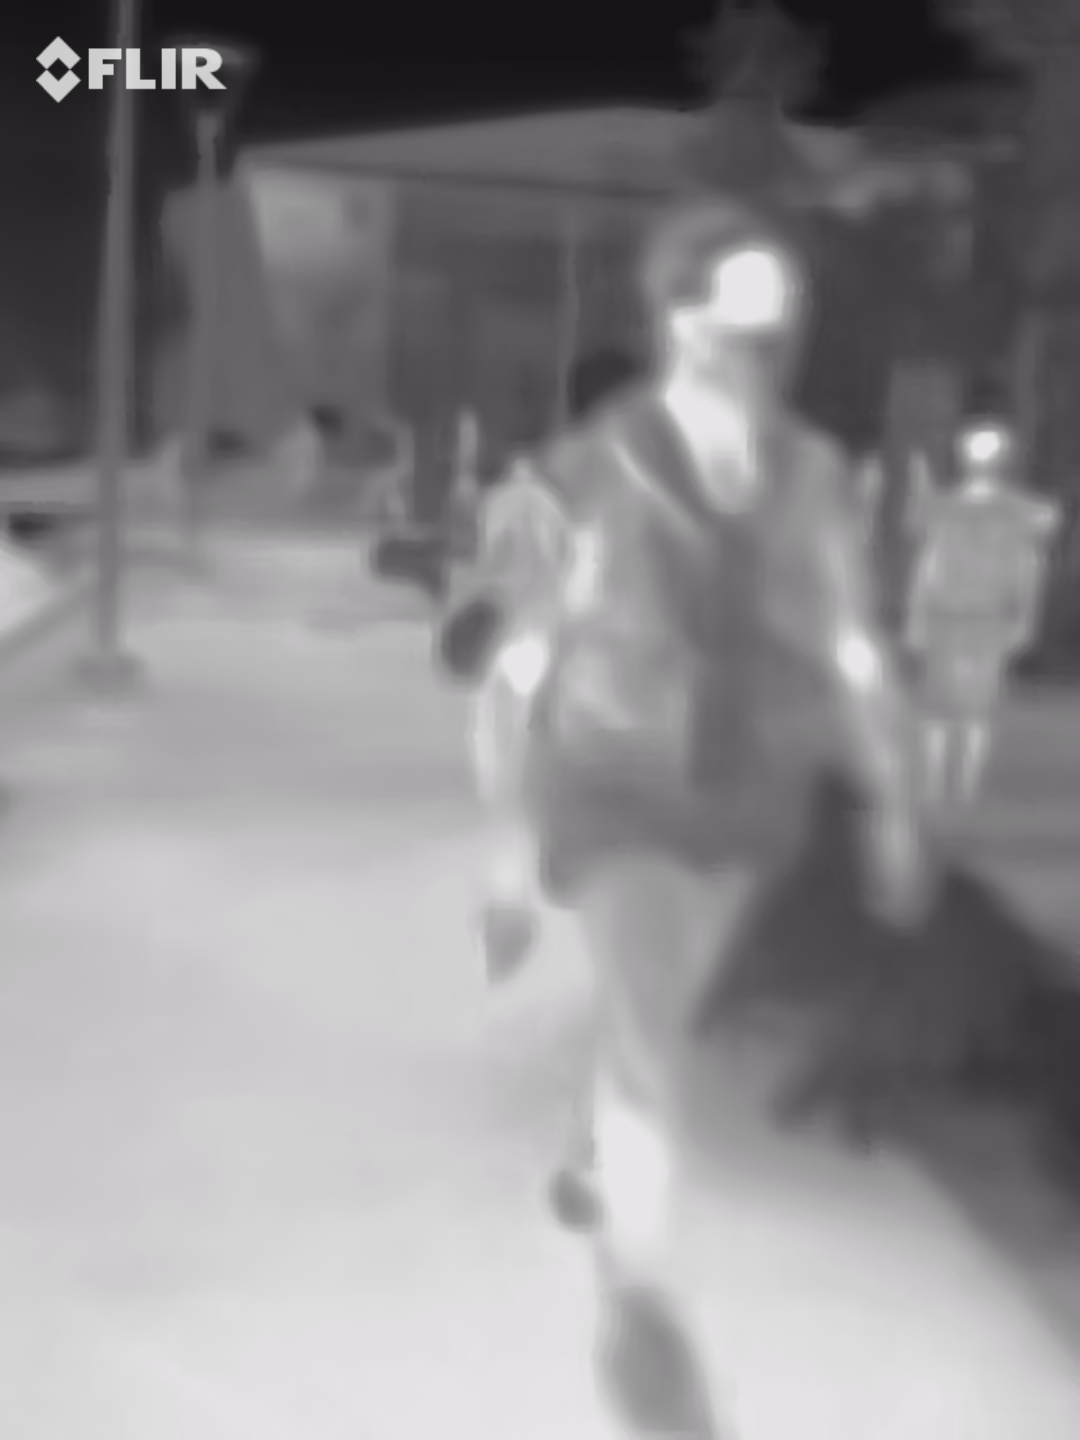head: (656, 203, 803, 424)
